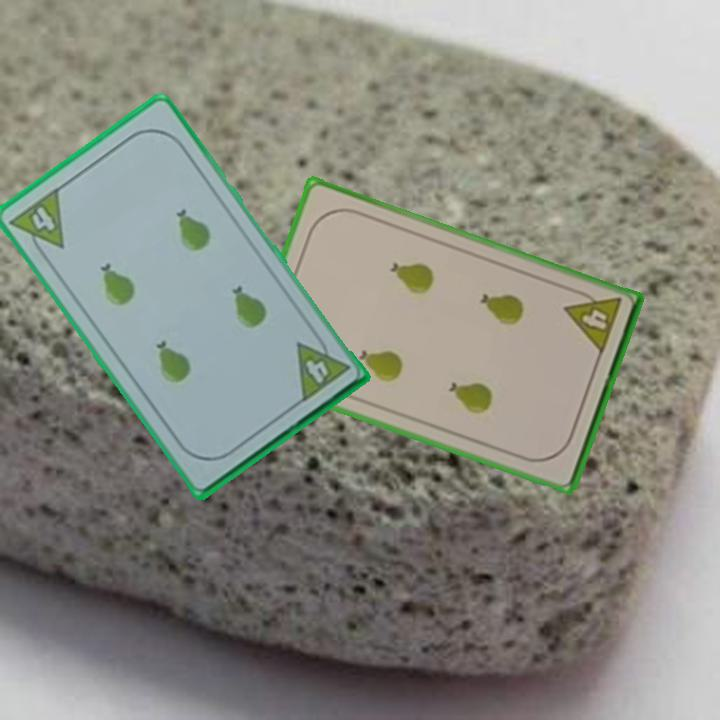4p: (6, 183, 67, 263), (561, 285, 625, 358), (292, 328, 352, 405)
